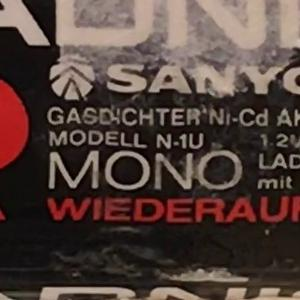keyword: (194, 100, 277, 129)
